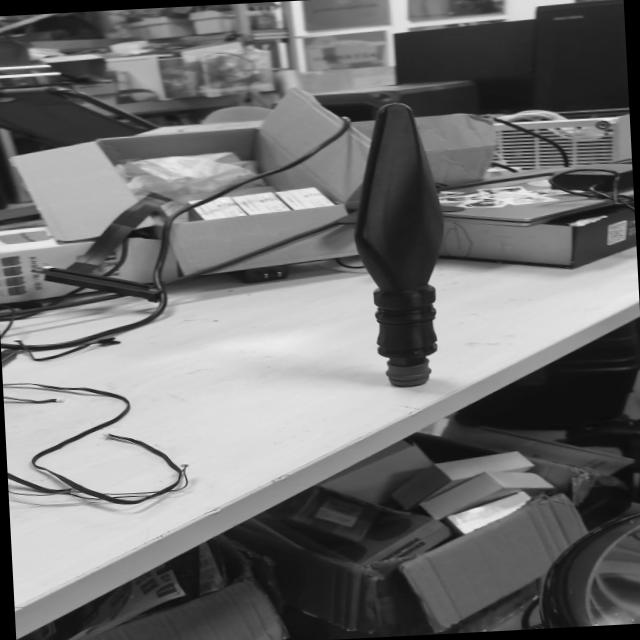base: (378, 357, 440, 393)
